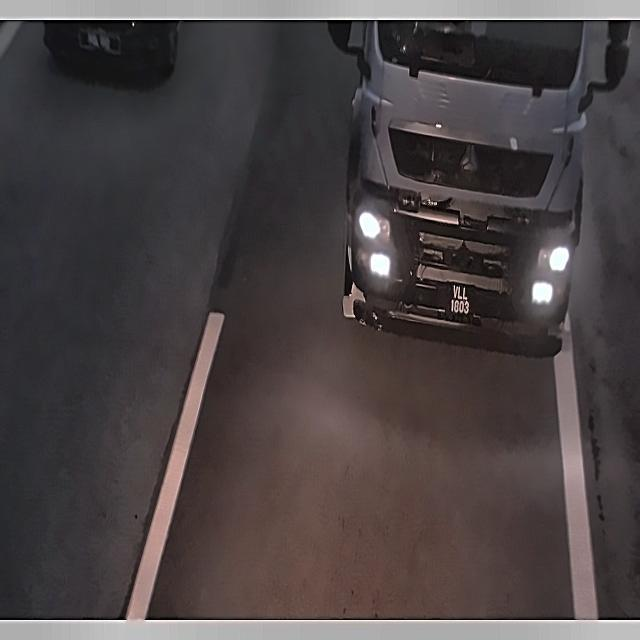car: (439, 274, 477, 330), (72, 24, 124, 58)
